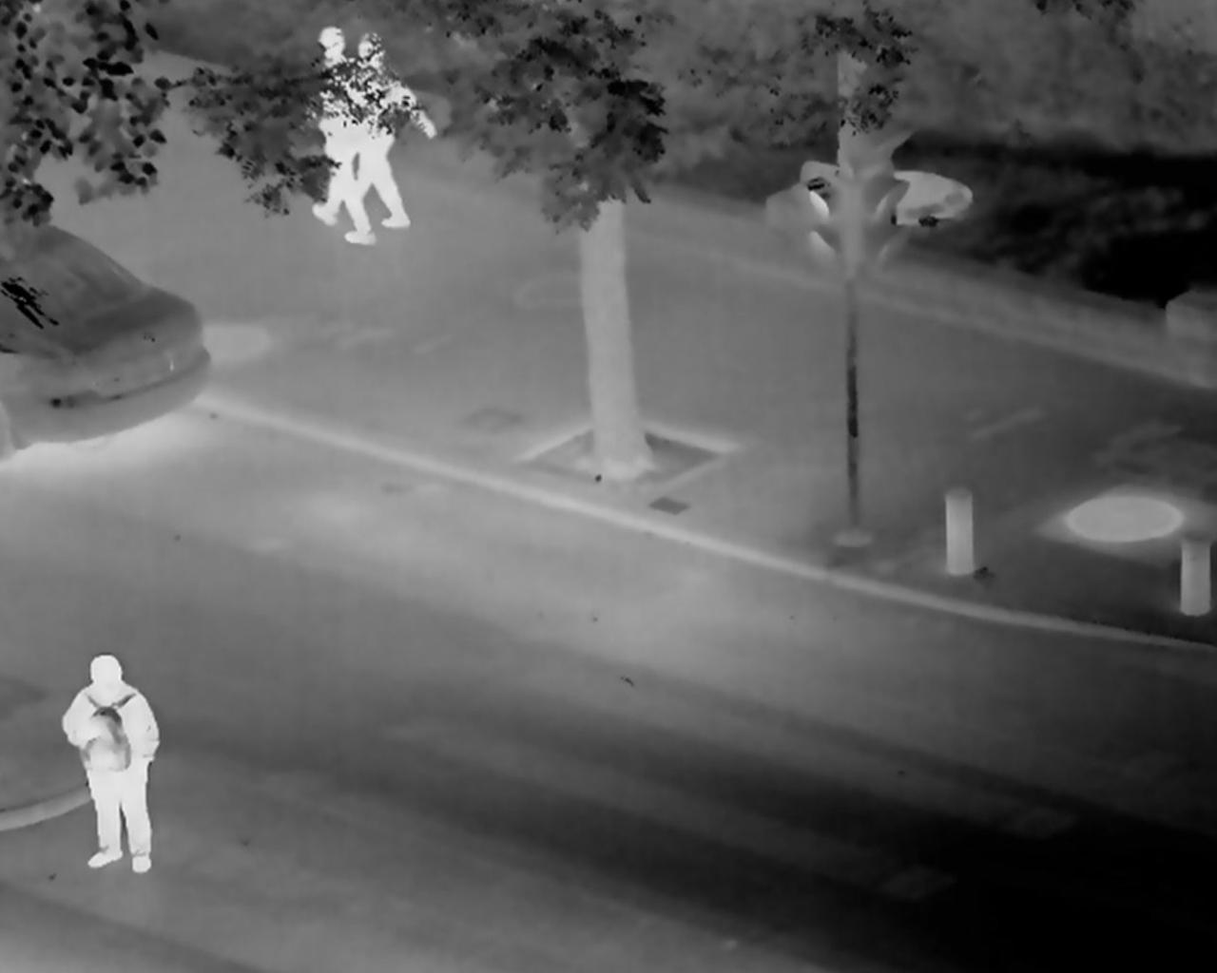person: (306, 29, 434, 248), (58, 654, 172, 876)
